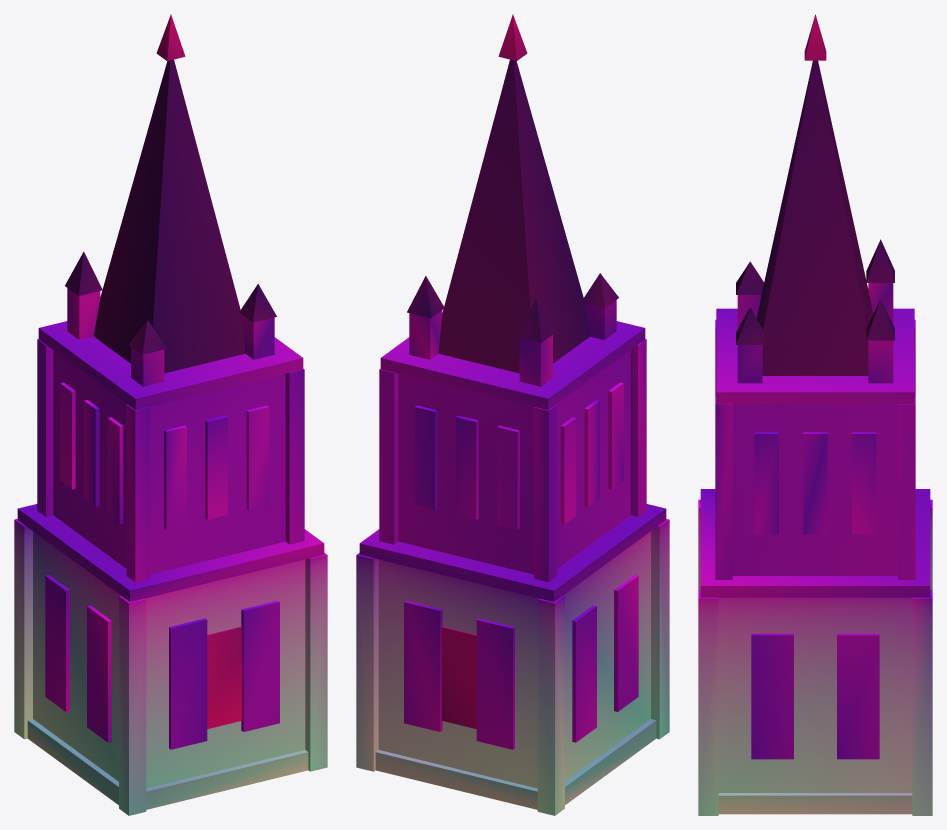
Rendered from spire_tower_c.glb.
3 renders of one model, left to right at view 1: azimuth 30°, elevation 25°; view 2: azimuth 150°, elevation 25°; view 3: azimuth 270°, elevation 25°, orthographic. The views are drawn at different scales.
Visible parts, largest first — view 1: tower_body, tower_roof, tower_niches, tower_trim, tower_windows, tower_gild; view 2: tower_body, tower_niches, tower_roof, tower_trim, tower_windows, tower_gild; view 3: tower_body, tower_roof, tower_trim, tower_niches, tower_gild.
Part boxes in pixels (bbox=[...]): tower_body: bbox=[14, 339, 327, 815]; tower_roof: bbox=[65, 59, 276, 373]; tower_niches: bbox=[45, 382, 279, 749]; tower_trim: bbox=[17, 288, 324, 809]; tower_windows: bbox=[207, 626, 242, 728]; tower_gild: bbox=[156, 14, 185, 60]; tower_body: bbox=[356, 339, 669, 815]; tower_niches: bbox=[404, 382, 638, 749]; tower_roof: bbox=[407, 59, 618, 373]; tower_trim: bbox=[359, 300, 666, 809]; tower_windows: bbox=[441, 626, 476, 728]; tower_gild: bbox=[498, 14, 527, 60]; tower_body: bbox=[698, 319, 932, 815]; tower_roof: bbox=[736, 60, 894, 375]; tower_trim: bbox=[700, 283, 930, 814]; tower_niches: bbox=[751, 432, 879, 759]; tower_gild: bbox=[804, 14, 826, 60].
Bounding box in the file's own units: 9.11 × 32.24 × 9.11.
